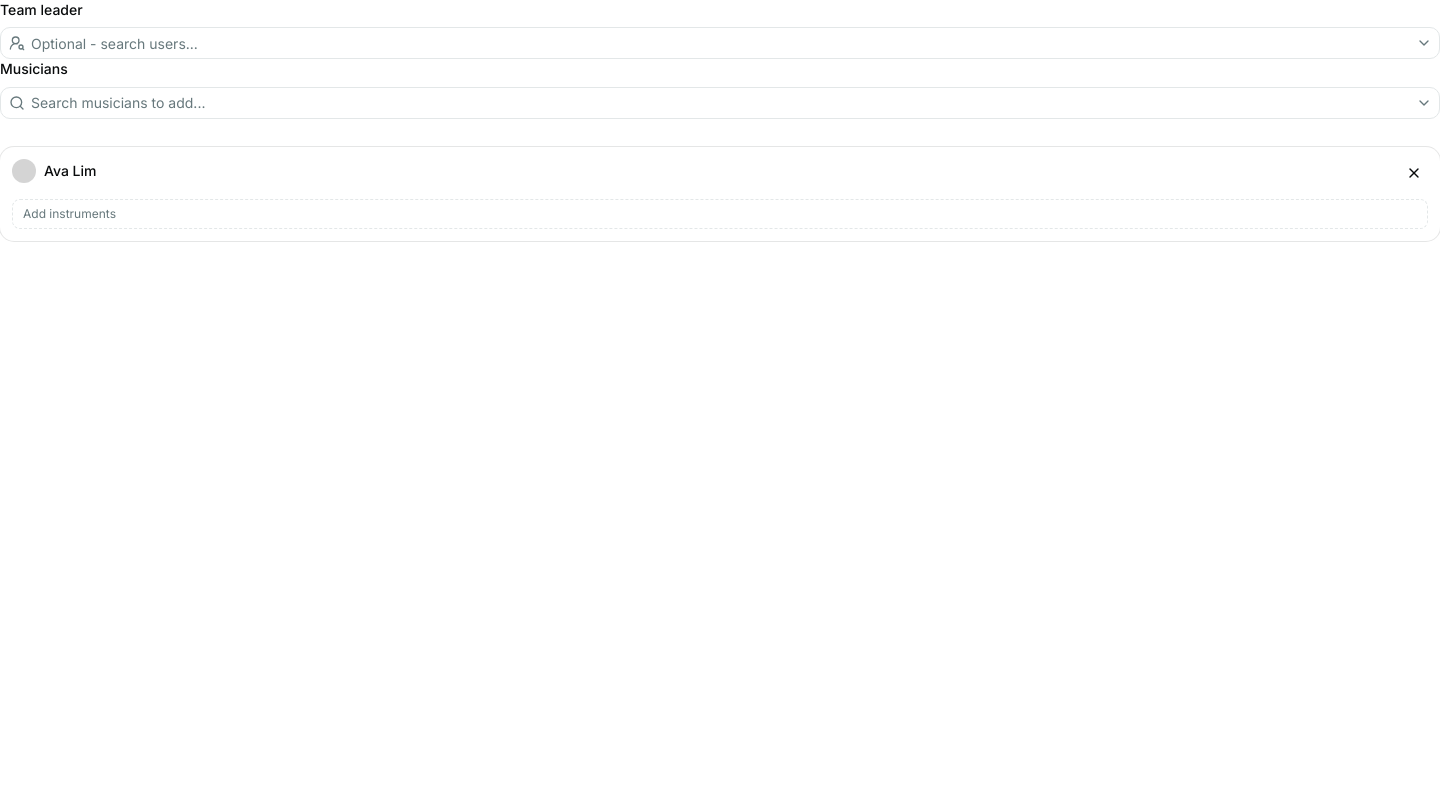
Test: TeamMembershipFields › toggles an instrument on for a musician via the instruments popover
What coordinates should you click on to do the following:
click the button "Add instruments"
I would click on:
 (69, 213)
Its box is [12, 198, 1428, 228].
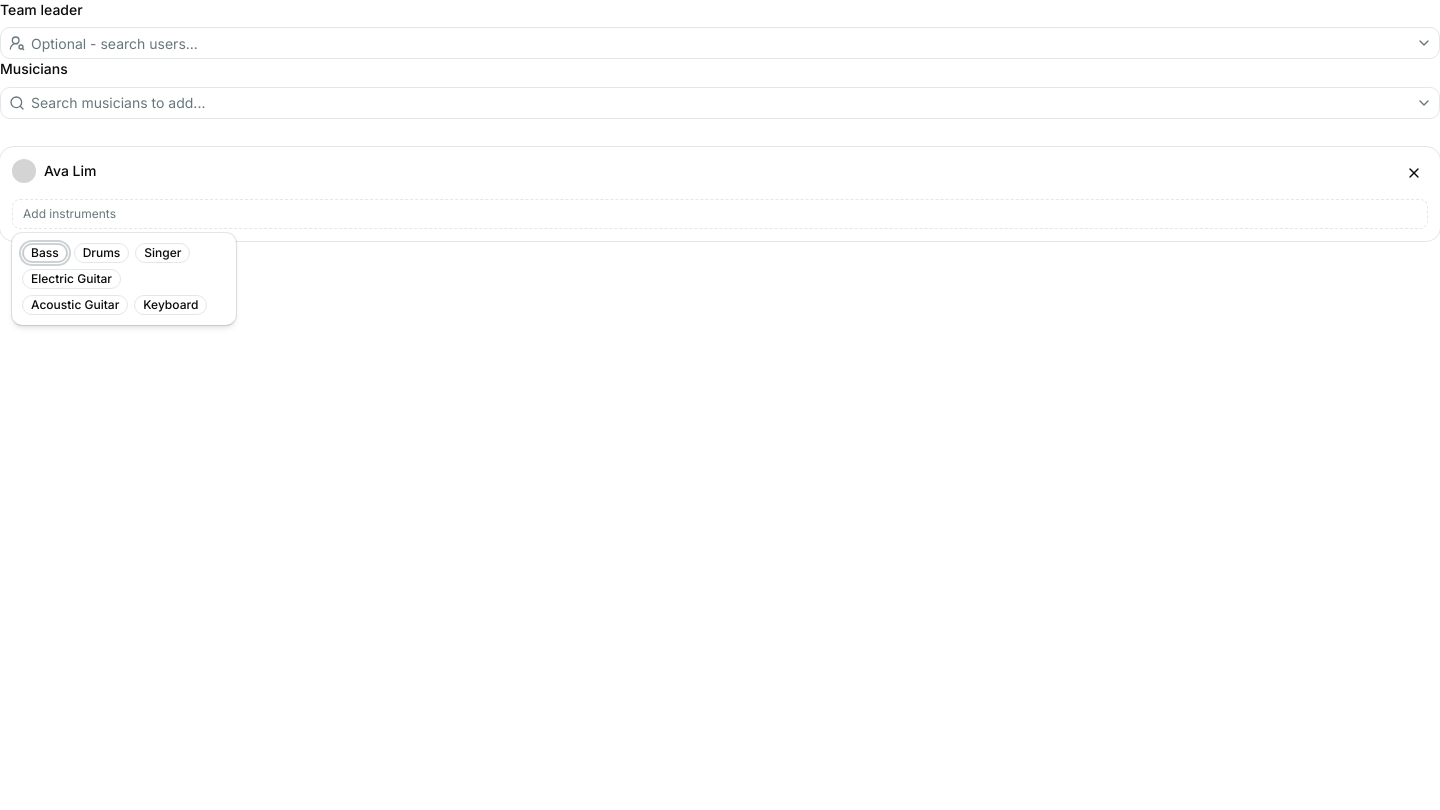
What coordinates should you click on to do the following:
click the button "Bass"
I would click on:
 (45, 253)
Its box is [22, 243, 68, 263].
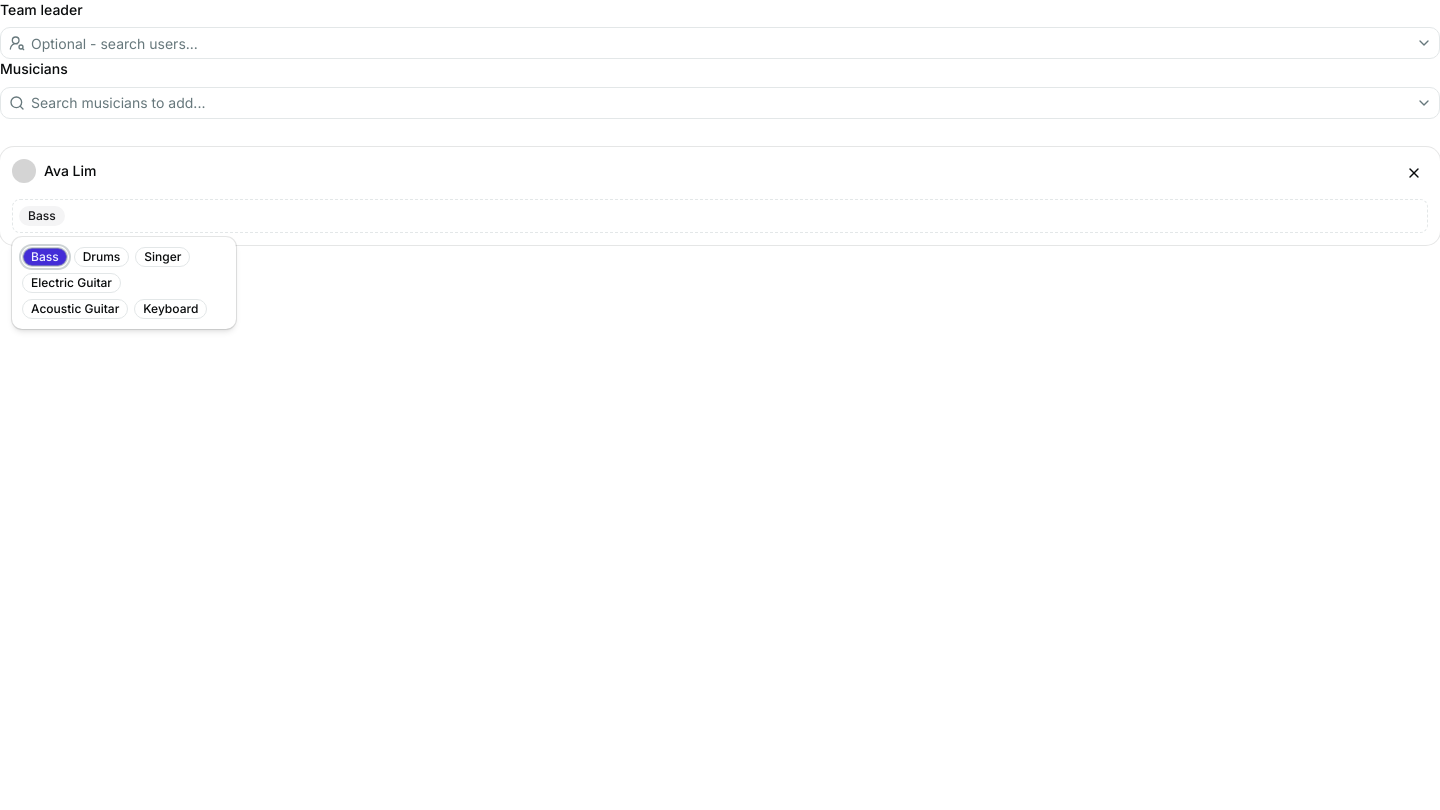
Expected: the 2nd button "Bass" is shown, [22, 247, 68, 267]
Expected: the text "Add instruments" is gone
